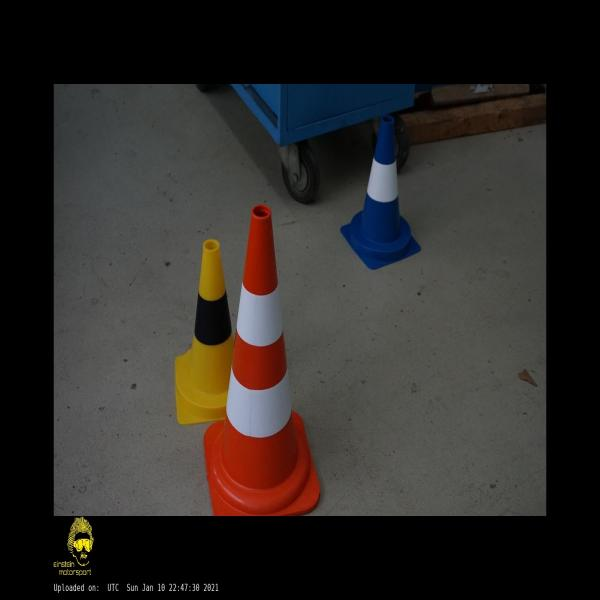blue_cone: (340, 115, 421, 269)
large_orange_cone: (204, 204, 320, 516)
yellow_cone: (175, 240, 234, 424)
